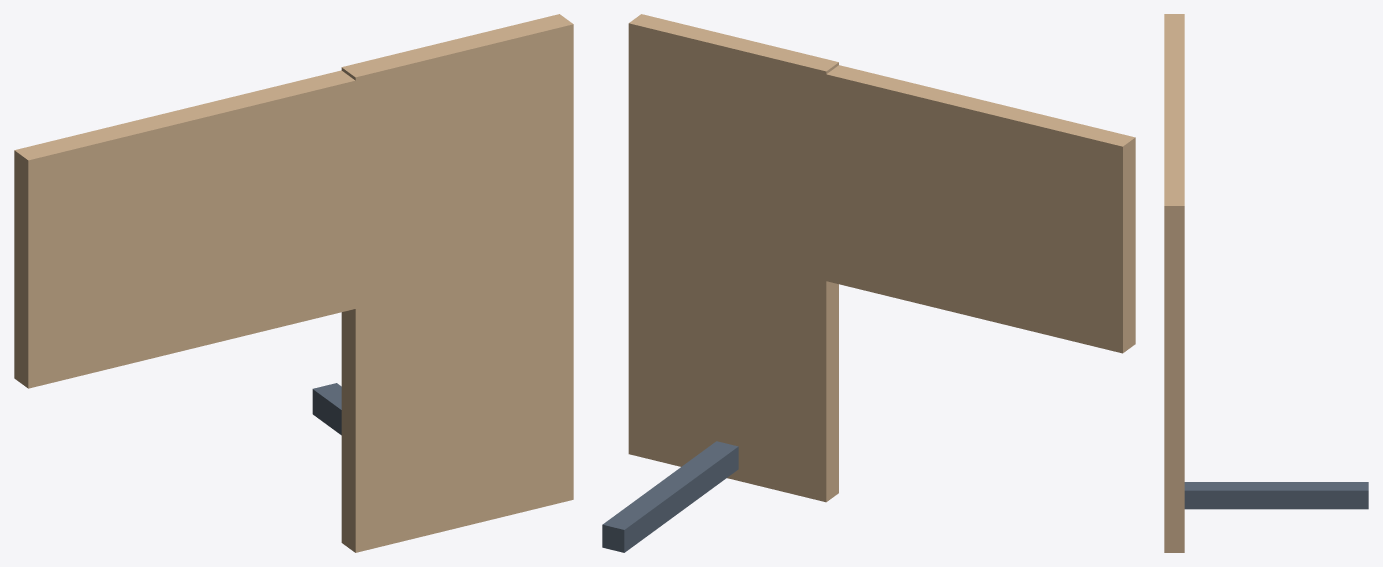
Rendered from desk_L.glb.
The picture shows the model from 3 angles, left to right: view 1: azimuth 30°, elevation 25°; view 2: azimuth 150°, elevation 25°; view 3: azimuth 270°, elevation 25°; orthographic projection. The views are drawn at different scales.
Visible parts, largest first — view 1: desk_a, desk_b, leg; view 2: desk_a, desk_b, leg; view 3: desk_b, desk_a, leg.
Part boxes in pixels (<box>): desk_a: <box>14,27,573,388</box>; desk_b: <box>341,14,573,552</box>; leg: <box>312,383,341,435</box>; desk_a: <box>628,26,1135,353</box>; desk_b: <box>628,14,838,502</box>; leg: <box>602,441,738,552</box>; desk_b: <box>1164,128,1184,552</box>; desk_a: <box>1164,14,1184,374</box>; leg: <box>1184,482,1368,509</box>.
Size of the model in its own units: 1.8 by 1.5 by 0.8.
